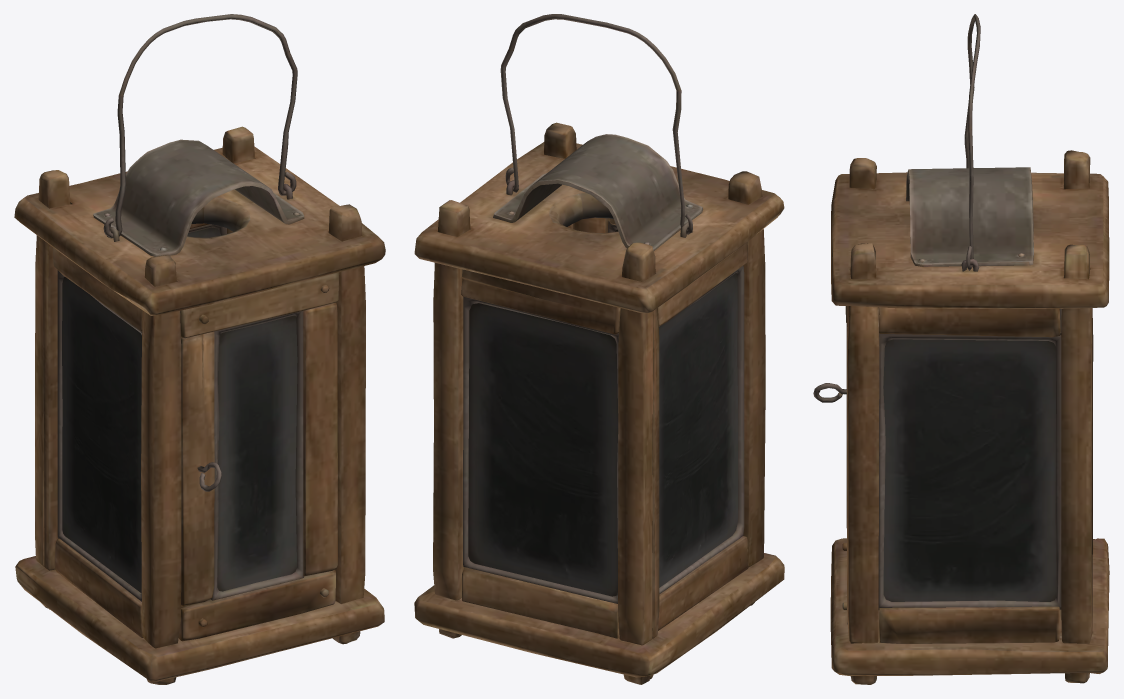
Rendered from wooden_lantern_01.glb.
The picture shows the model from 3 angles, left to right: view 1: azimuth 30°, elevation 25°; view 2: azimuth 150°, elevation 25°; view 3: azimuth 270°, elevation 25°; orthographic projection.
Visible parts, largest first — view 1: wooden_lantern, wooden_lantern_01_door, wooden_lantern_01_handle; view 2: wooden_lantern, wooden_lantern_01_handle, wooden_lantern_01_door; view 3: wooden_lantern, wooden_lantern_01_handle, wooden_lantern_01_door.
Part boxes in pixels (bbox=[...]): wooden_lantern: bbox=[14, 126, 385, 684]; wooden_lantern_01_door: bbox=[178, 272, 339, 641]; wooden_lantern_01_handle: bbox=[103, 14, 297, 238]; wooden_lantern: bbox=[414, 122, 784, 684]; wooden_lantern_01_handle: bbox=[500, 14, 692, 234]; wooden_lantern_01_door: bbox=[573, 217, 617, 233]; wooden_lantern: bbox=[830, 150, 1109, 684]; wooden_lantern_01_handle: bbox=[964, 14, 980, 270]; wooden_lantern_01_door: bbox=[813, 306, 847, 624].
Size of the model in its own units: 0.2211 by 0.5301 by 0.2347.
2 materials, 2 textured.
